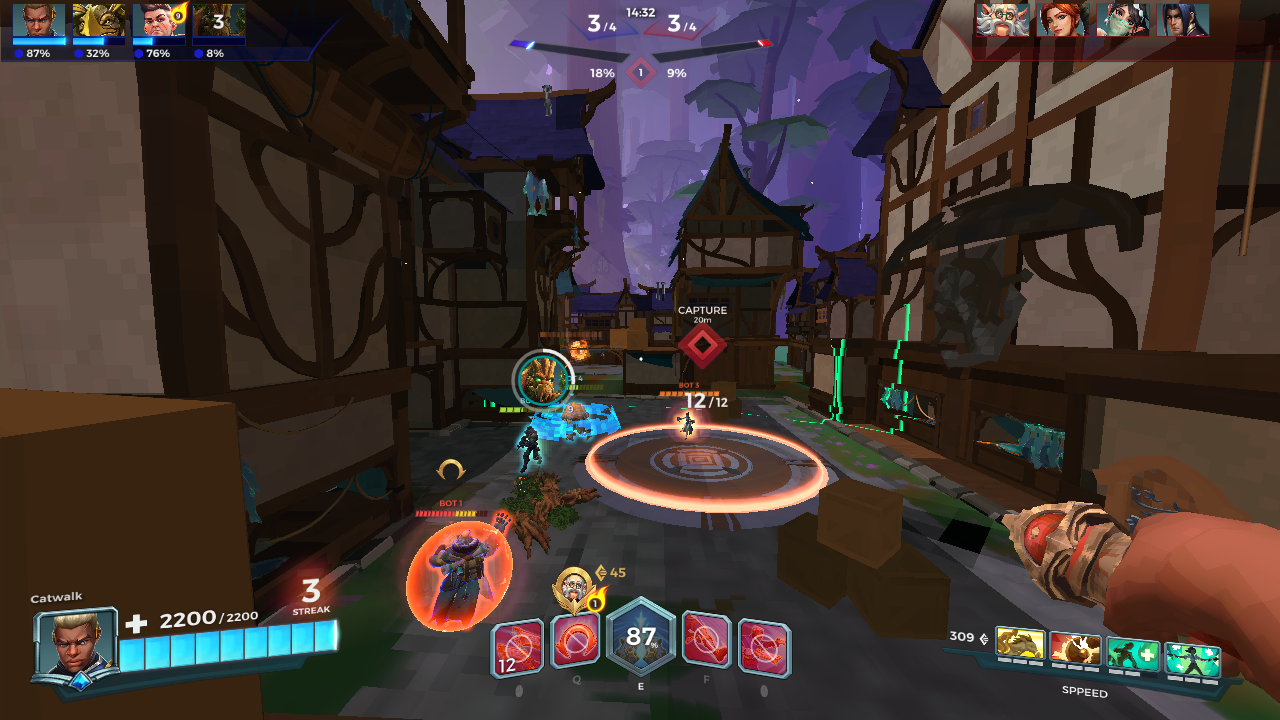model: (435, 522, 481, 632), (676, 405, 696, 442)
